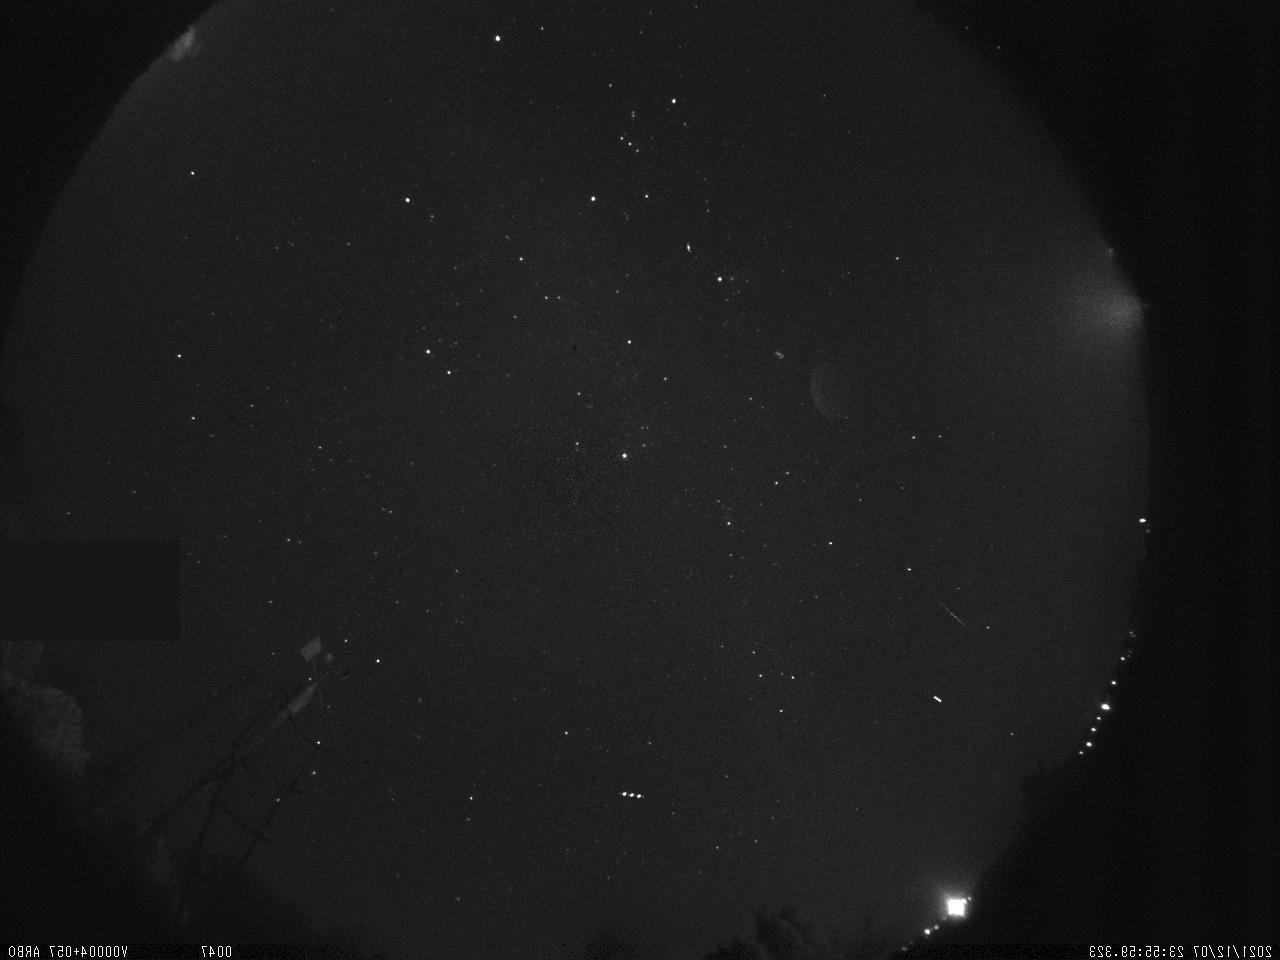satelite: (933, 592, 970, 634), (616, 785, 647, 807)
